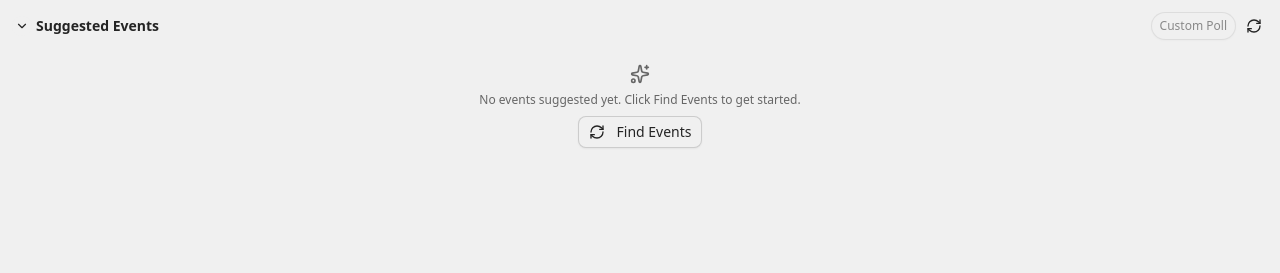
Test case: does not show manual or custom events in the suggested search results
Click the button "Find Events": (640, 132) [578,116,702,148]
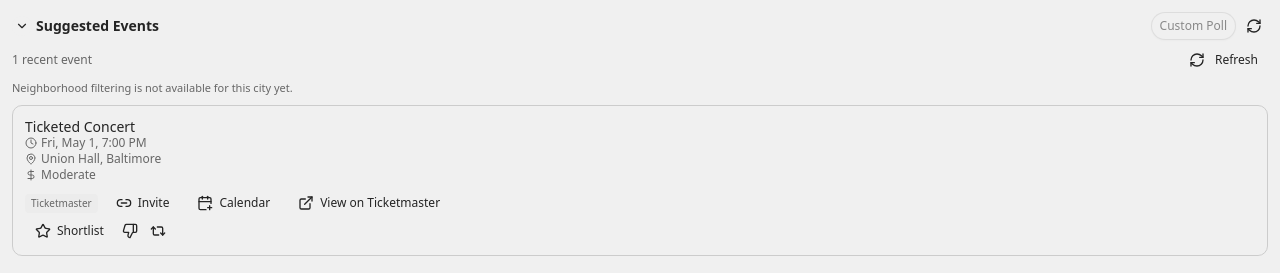
Result: the text "Ticketed Concert" is shown at [25,118,135,135]
